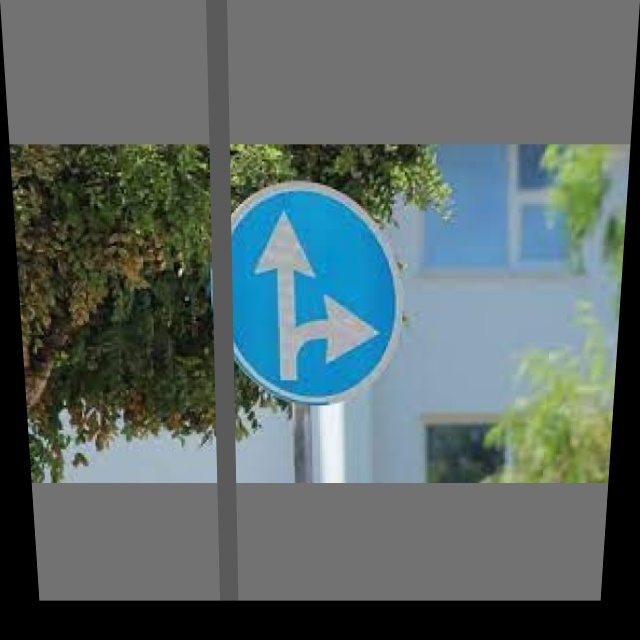Compulsory_Ahead_or_Turn_Right: (211, 181, 404, 409)
